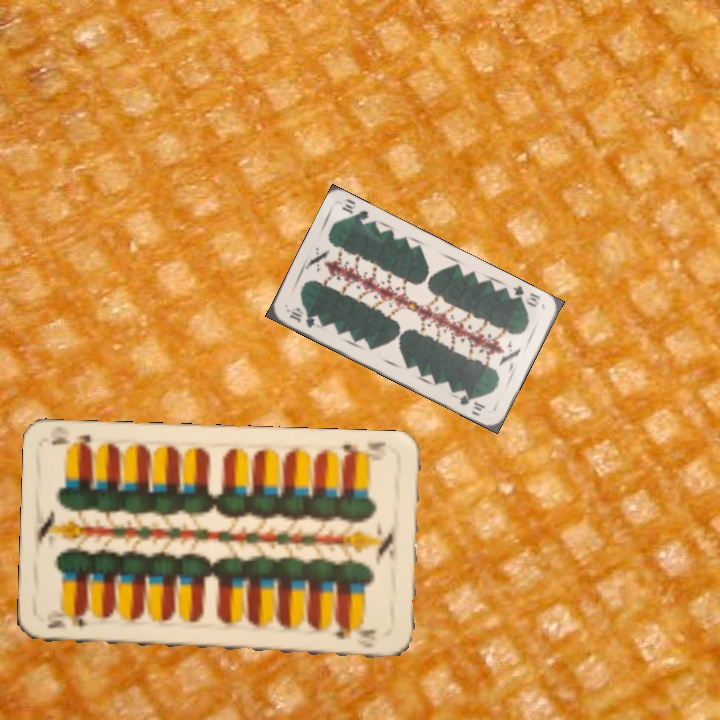E10: (339, 438, 389, 463), (43, 614, 91, 631)
G10: (504, 282, 543, 310), (286, 305, 317, 331)
